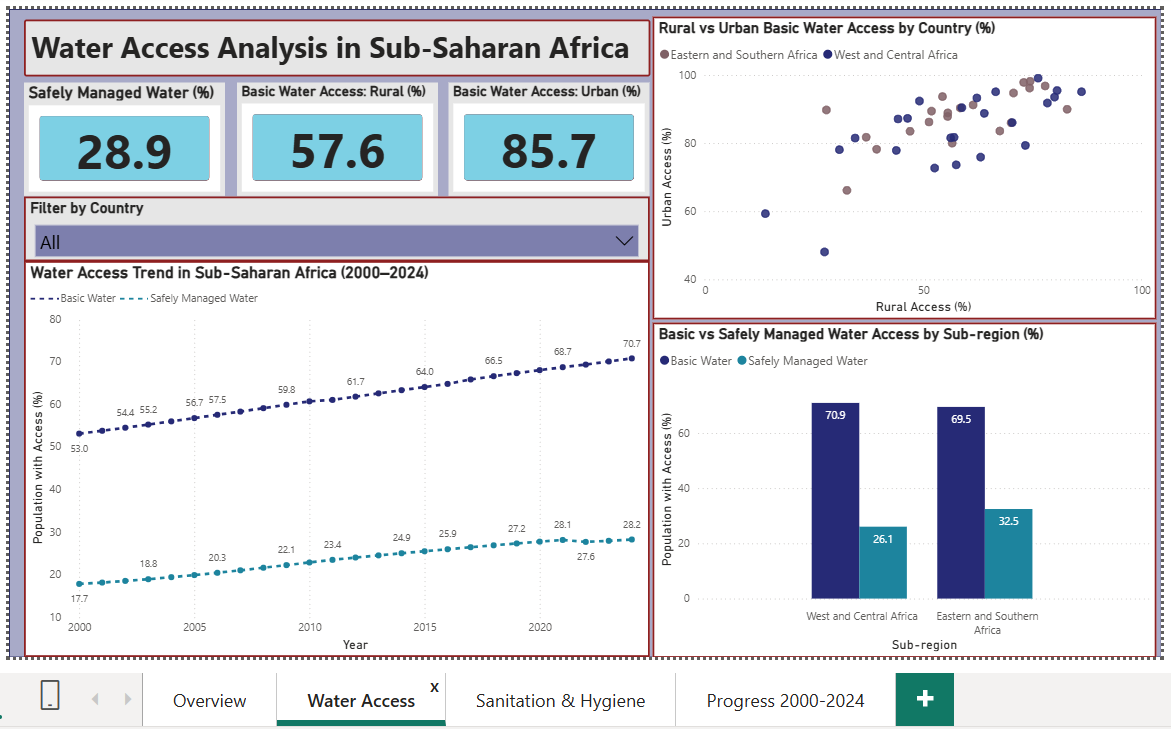

Layout of this report page (visuals, bound fields, positions):
{"tool":"powerbi","page":{"name":"Water Access","canvas":[1280,720],"ordinal":1},"visuals":[{"type":"shape","box":[0,0,1280.8,720.6],"z":0},{"type":"textbox","box":[16.2,11.3,696.3,63.1],"z":1000},{"type":"slicer","title":"Filter by Country","fields":{"Values":["water_timeseries.Country"]},"box":[16.7,208.3,695,71.7],"z":2000},{"type":"cardVisual","title":"Safely Managed Water (%)","fields":{"Data":["Avg(water_latest.Water_SafelyManaged_Total)"]},"box":[16.2,81,223.5,126.3],"z":3000},{"type":"scatterChart","title":"Rural vs Urban Basic Water Access by Country (%)","fields":{"X":["Avg(water_latest.Water_Basic_Rural)"],"Y":["Avg(water_latest.Water_Basic_Urban)"],"Category":["water_latest.Country"],"Series":["water_latest.UNICEF_Region"]},"box":[715.7,8.1,560.3,336.8],"z":4000},{"type":"clusteredColumnChart","title":"Basic vs Safely Managed Water Access by Sub-region (%)","fields":{"Category":["water_latest.UNICEF_Region"],"Y":["Avg(water_latest.Water_Basic_Total)","Avg(water_latest.Water_SafelyManaged_Total)"]},"box":[715.7,348.1,560.3,372.4],"z":5000},{"type":"lineChart","title":"Water Access Trend in Sub-Saharan Africa (2000–2024)","fields":{"Category":["water_timeseries.Year"],"Y":["Avg(water_timeseries.Water_Basic_Total)","Avg(water_timeseries.Water_SafelyManaged_Total)"]},"box":[16.7,280,695,440],"z":6000},{"type":"cardVisual","title":"Basic Water Access: Rural (%)","fields":{"Data":["Avg(water_latest.Water_Basic_Rural)"]},"box":[252.6,81,223.5,126.3],"z":7000},{"type":"cardVisual","title":"Basic Water Access: Urban (%)","fields":{"Data":["Avg(water_latest.Water_Basic_Urban)"]},"box":[489,81,223.5,126.3],"z":8000}]}

Visuals, with their boxes in screenshot pixels (x1, y1, x2, y2):
shape: [3, 3, 1159, 653]
textbox: [18, 13, 646, 70]
"Filter by Country" slicer: [18, 191, 645, 256]
"Safely Managed Water (%)" cardVisual: [18, 76, 219, 190]
"Rural vs Urban Basic Water Access by Country (%)" scatterChart: [649, 10, 1154, 314]
"Basic vs Safely Managed Water Access by Sub-region (%)" clusteredColumnChart: [649, 317, 1154, 653]
"Water Access Trend in Sub-Saharan Africa (2000–2024)" lineChart: [18, 256, 645, 653]
"Basic Water Access: Rural (%)" cardVisual: [231, 76, 433, 190]
"Basic Water Access: Urban (%)" cardVisual: [444, 76, 646, 190]
